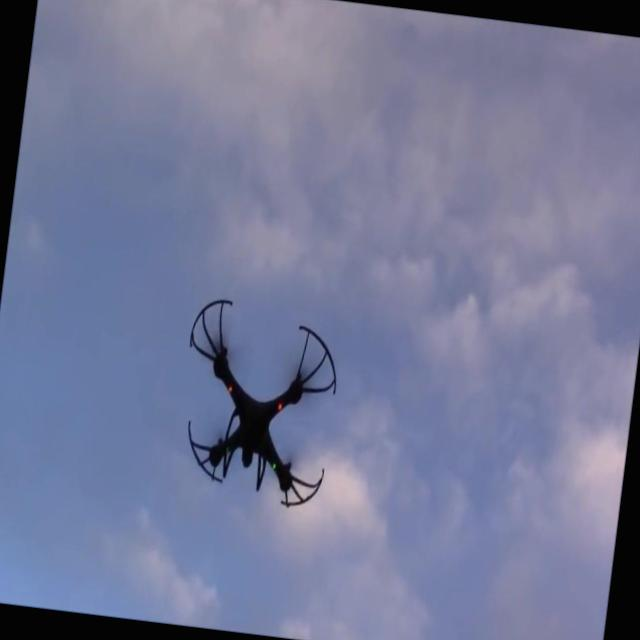drone: (168, 290, 348, 516)
